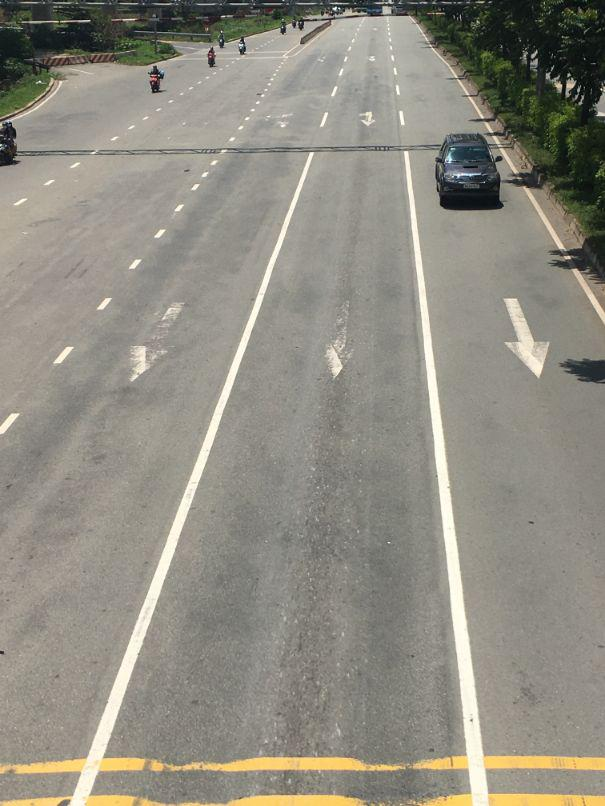car: (436, 137, 505, 211)
motorbike: (1, 124, 19, 167), (148, 65, 164, 93)
